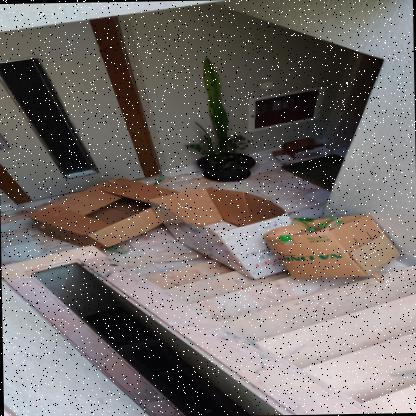Corrugated carton: (146, 187, 293, 279), (27, 177, 178, 251), (262, 214, 401, 282), (272, 137, 331, 161)
